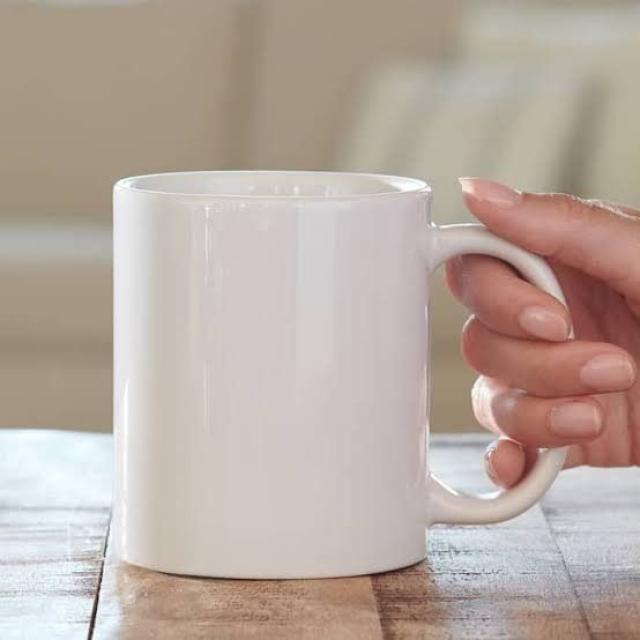glass cup: (114, 170, 573, 579)
